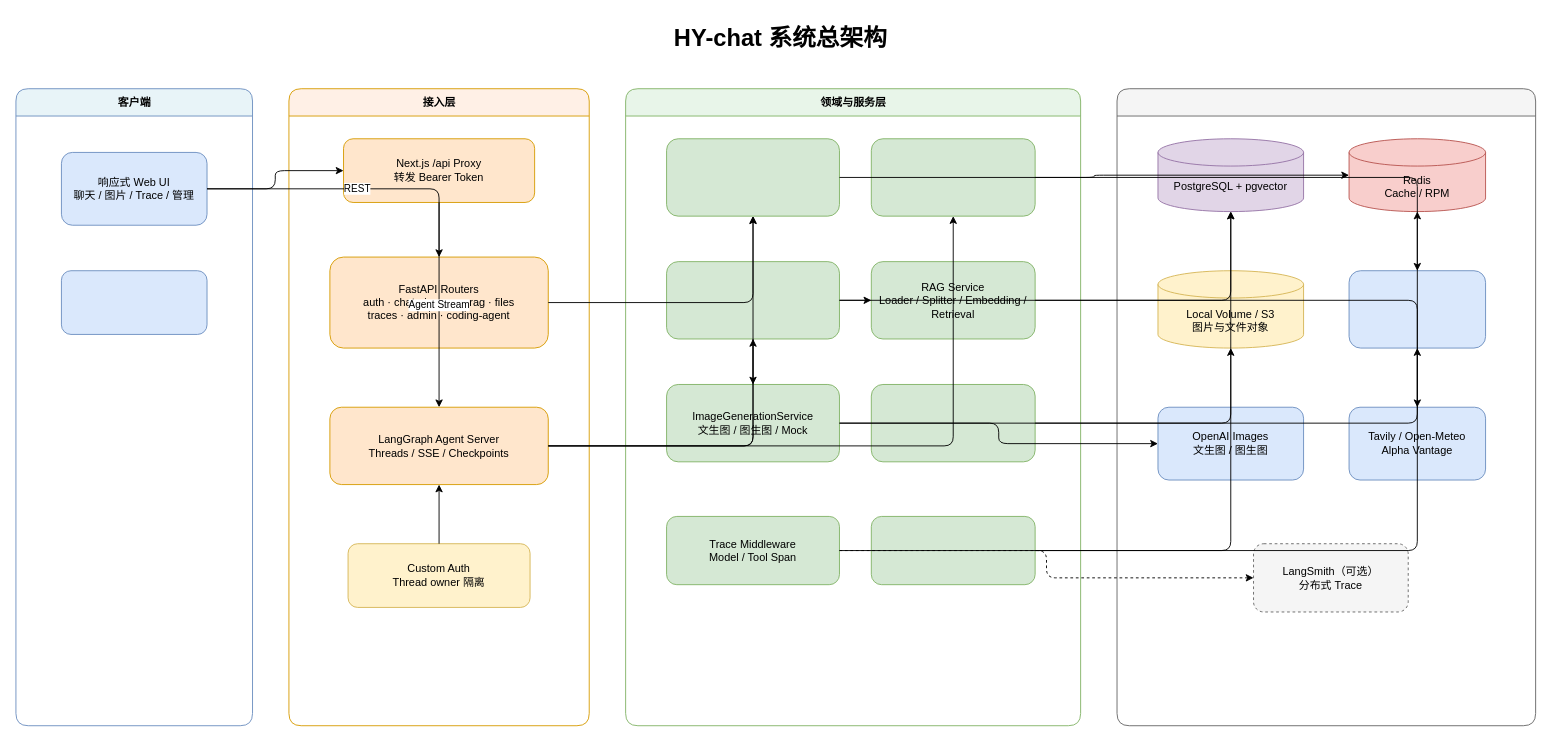
The diagram is 1552 pixels wide and 742 high, and some of its shapes have lost their labels. The box of each missing label's shape, as (x1, y1, x2, y2) in pixels:
Cache Service JSON Cache / Graceful Degrade: (870, 516, 1035, 585)
File + Storage Service 本地 / S3 兼容: (870, 384, 1035, 462)
JWT 账号状态 多账号切换: (61, 270, 207, 334)
Model Router 智谱 Chat Models: (870, 138, 1035, 216)
Policy Service 模型白名单 / RPM / Token / Tool 权限: (666, 138, 839, 216)
Tool Registry Web / Weather / Stock / Workspace: (666, 261, 839, 339)
数据与外部服务: (1116, 88, 1536, 726)
智谱 API Chat / Embedding / 文生图: (1348, 270, 1486, 348)
